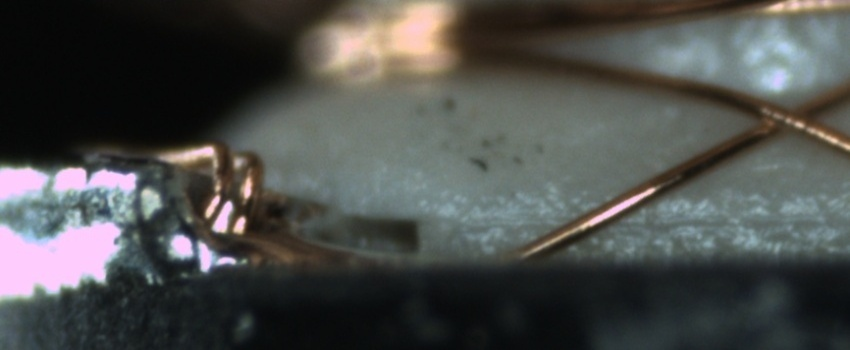CL: (737, 82, 843, 147)
DL: (470, 186, 849, 251)
TE: (149, 133, 265, 249)
